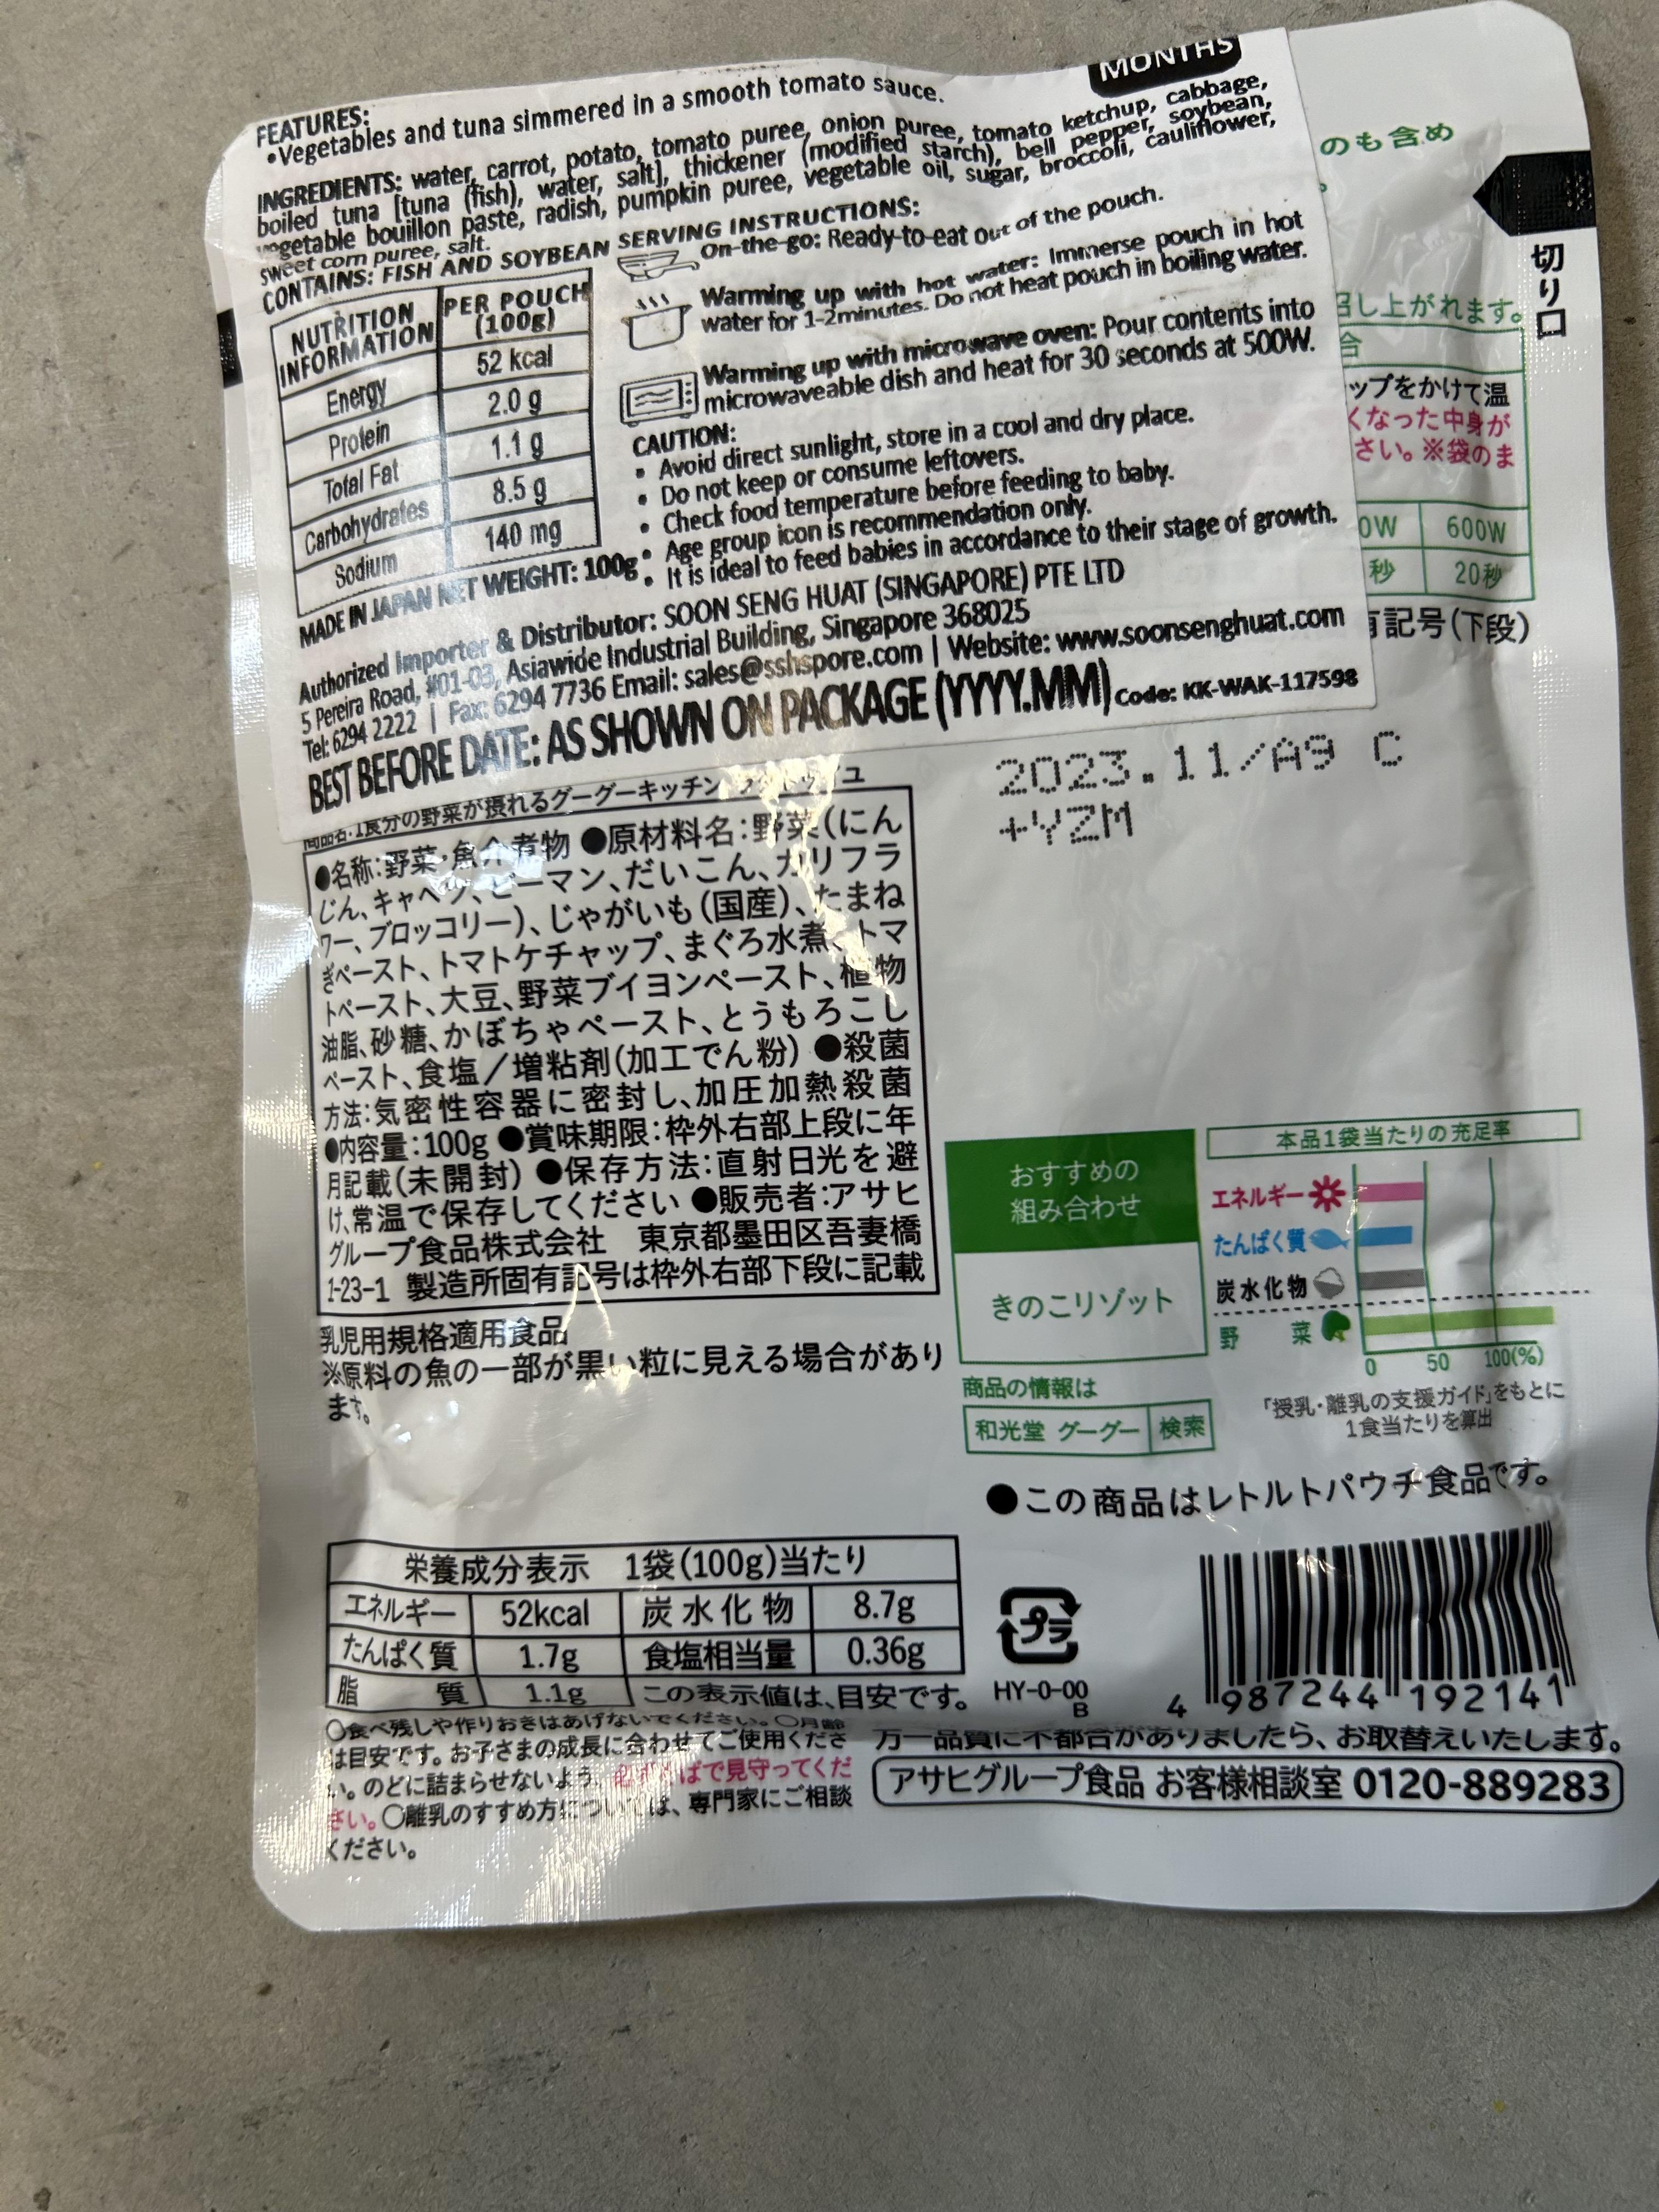object_name: (244, 120, 1633, 1867)
